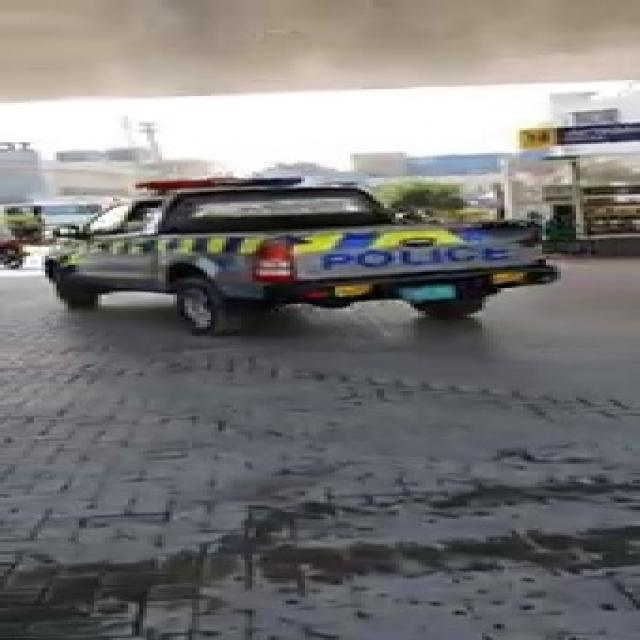police: (56, 164, 569, 338)
